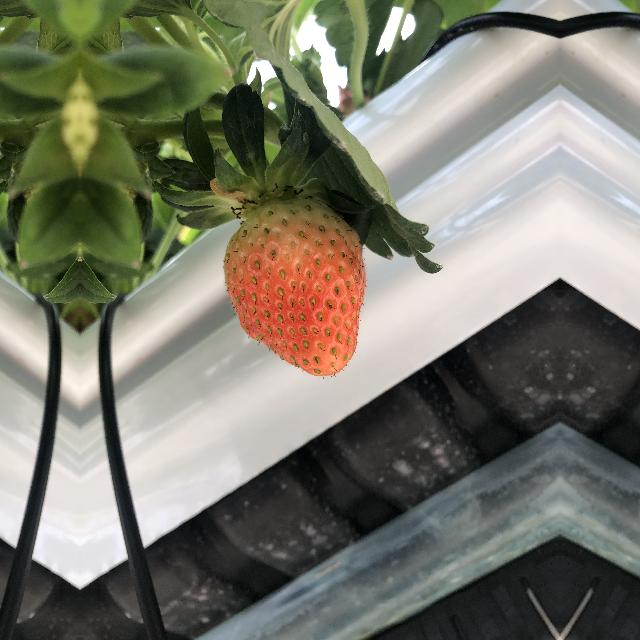Health_75: (215, 198, 369, 382)
